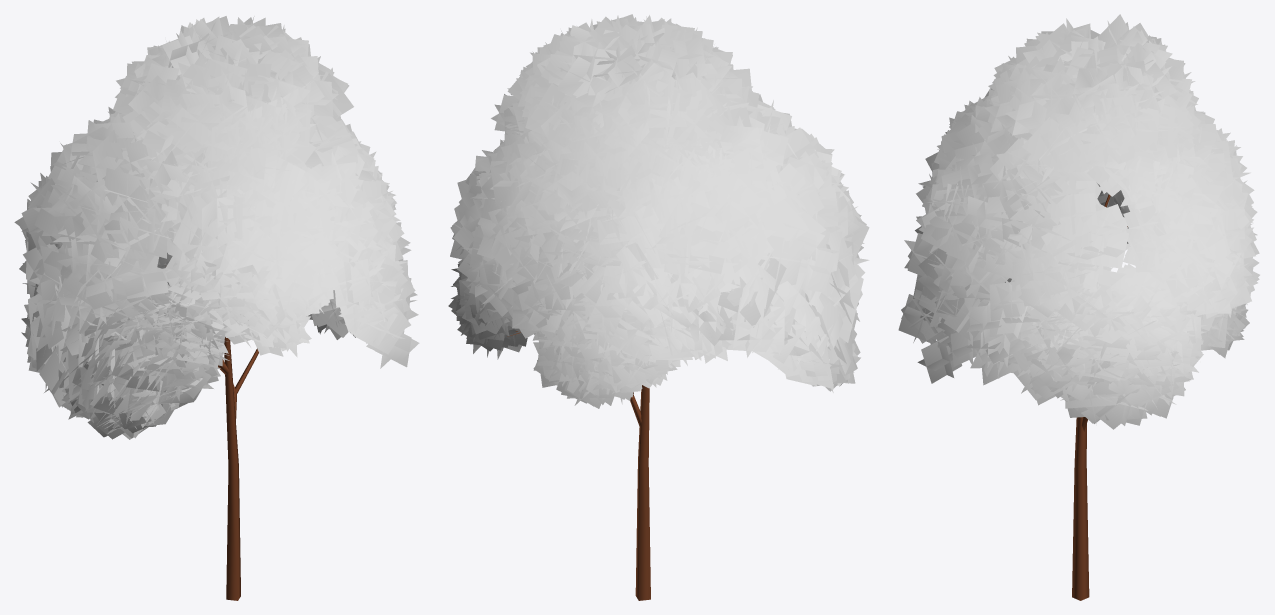
File: Tree.fbx
The picture shows the model from 3 angles, left to right: view 1: azimuth 30°, elevation 25°; view 2: azimuth 150°, elevation 25°; view 3: azimuth 270°, elevation 25°; orthographic projection. The views are drawn at different scales.
Visible parts, largest first — view 1: Leaf, Trunk; view 2: Leaf, Trunk; view 3: Leaf, Trunk.
Part boxes in pixels (x1,y1,x2,y2): Leaf: (14,16,419,439); Trunk: (218,337,258,600); Leaf: (448,14,869,408); Trunk: (507,331,650,600); Leaf: (898,14,1259,429); Trunk: (1072,194,1127,600).
Bounding box in the file's own units: 4.79 × 7.26 × 4.2.
